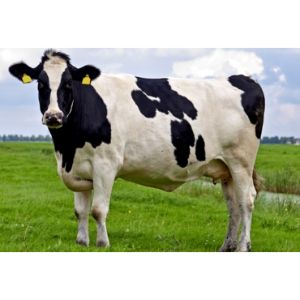cow: (9, 49, 267, 249)
